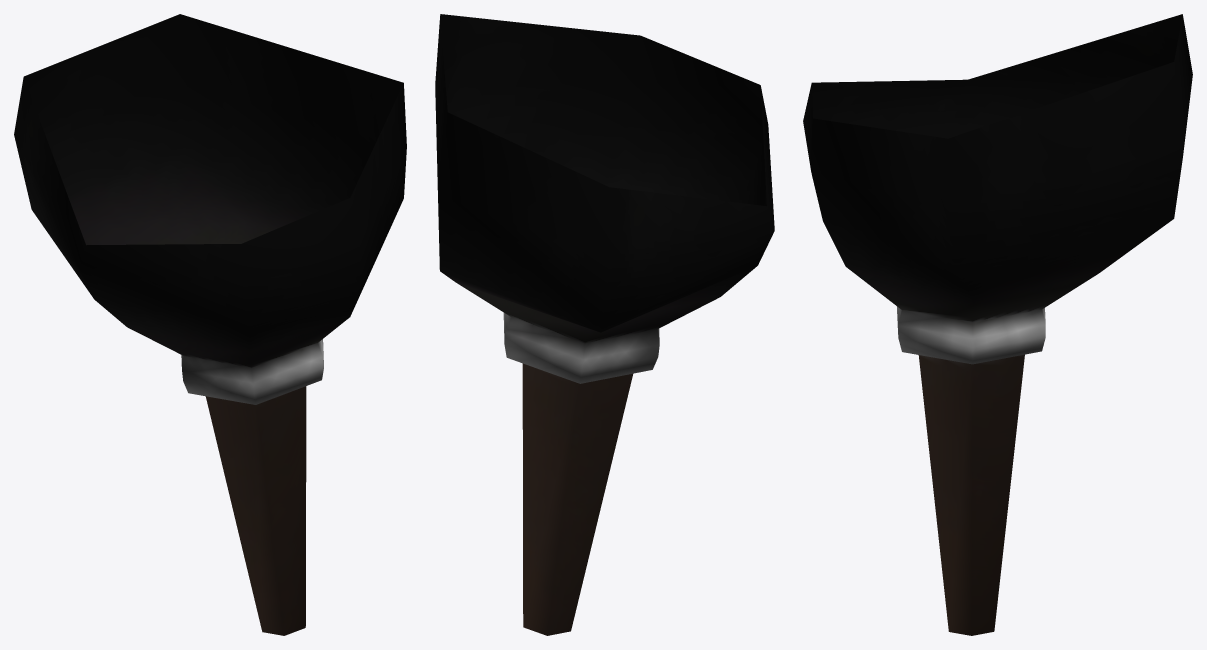
Rendered from Pegleg.fbx.
3 renders of one model, left to right at view 1: azimuth 30°, elevation 25°; view 2: azimuth 150°, elevation 25°; view 3: azimuth 270°, elevation 25°, orthographic. The views are drawn at different scales.
Parts seen in each view (by area): view 1: Attachment_PegLeg; view 2: Attachment_PegLeg; view 3: Attachment_PegLeg.
Part boxes in pixels (x1=…): Attachment_PegLeg: x1=14, y1=14, x2=406, y2=635; Attachment_PegLeg: x1=435, y1=14, x2=774, y2=635; Attachment_PegLeg: x1=803, y1=14, x2=1192, y2=635.
Size of the model in its own units: 16.57 by 26.94 by 16.83.
